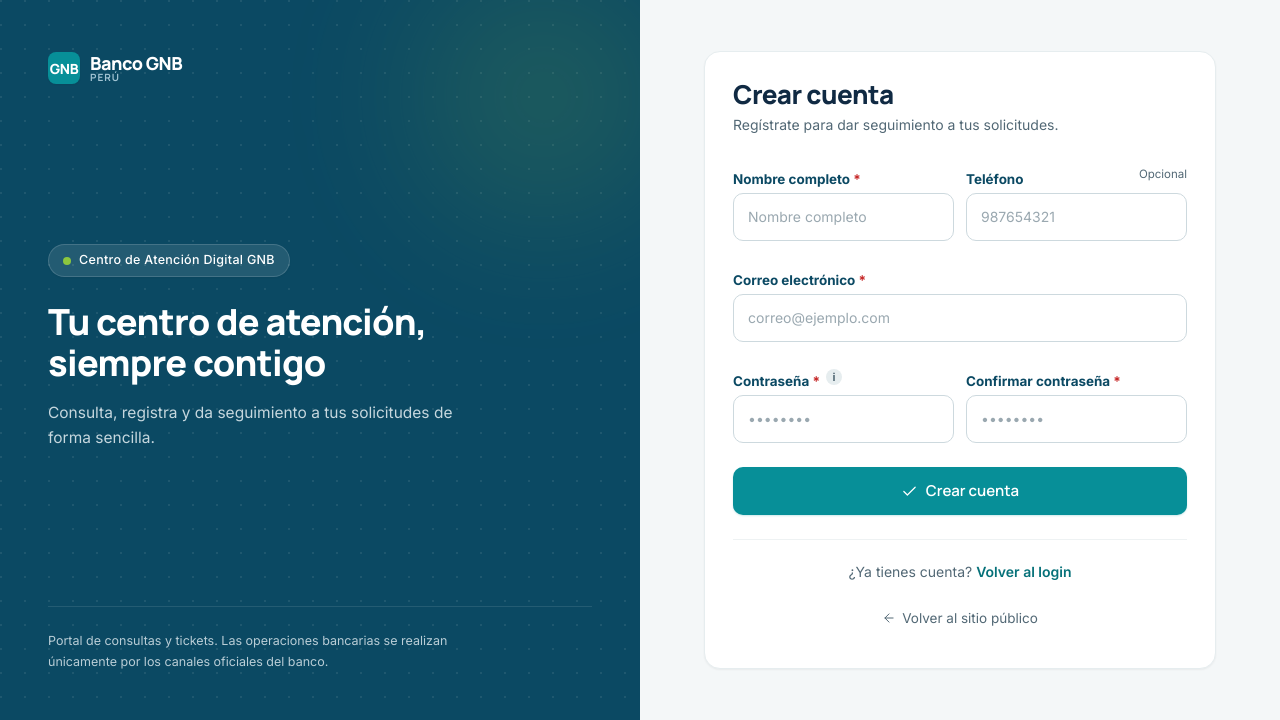
Test case: formularios de autenticación › registra un cliente y valida confirmación y contraseña
Type "Cliente Prueba" into the field labelled "Nombre completo *". click: point(844, 217)
box: [733,193,954,241]
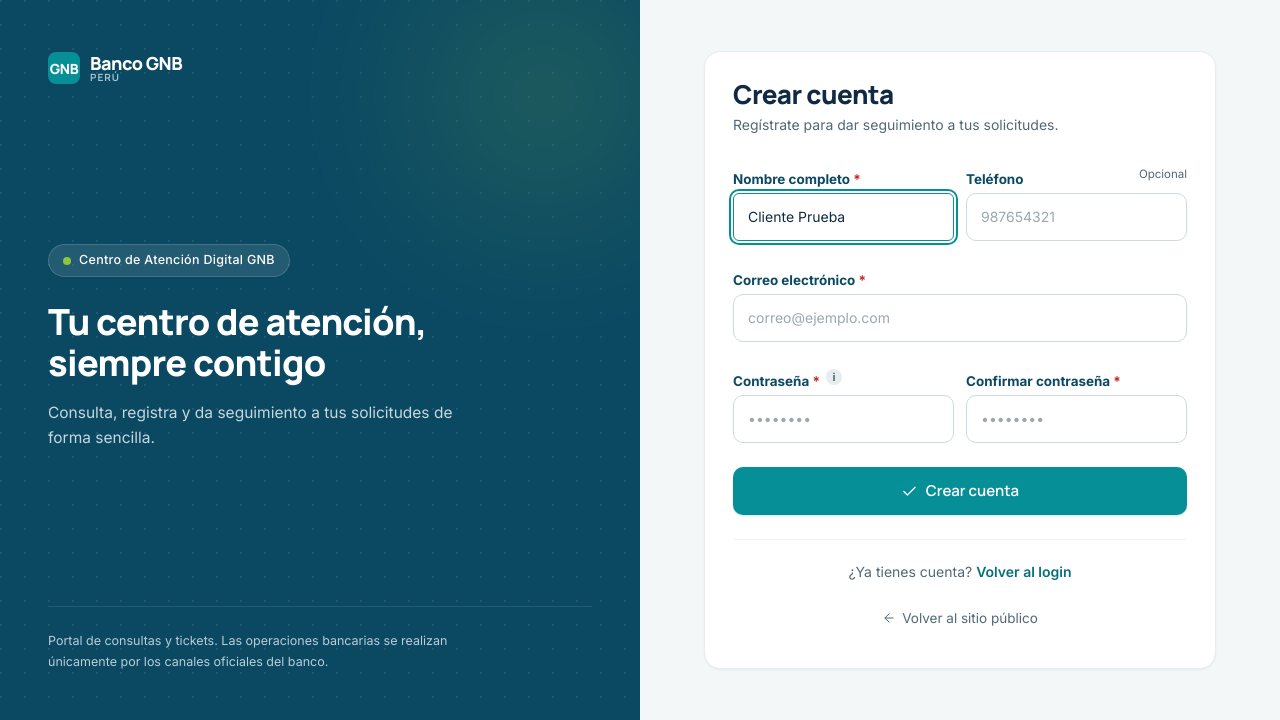
Type "cliente@example.com" into the field labelled "Correo electrónico *". click: point(960, 318)
box: [733,294,1187,342]
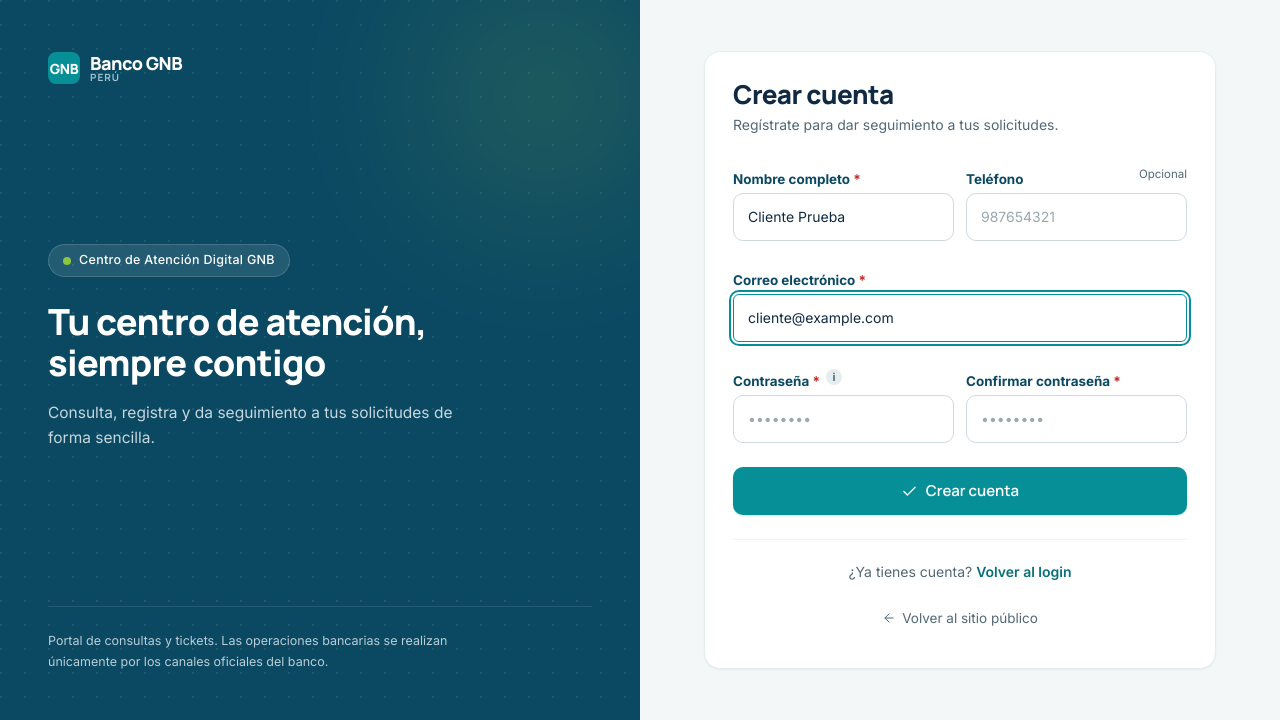
Type "Password123" into the password field labelled "Contraseña *". click: point(844, 419)
box: [733,395,954,443]
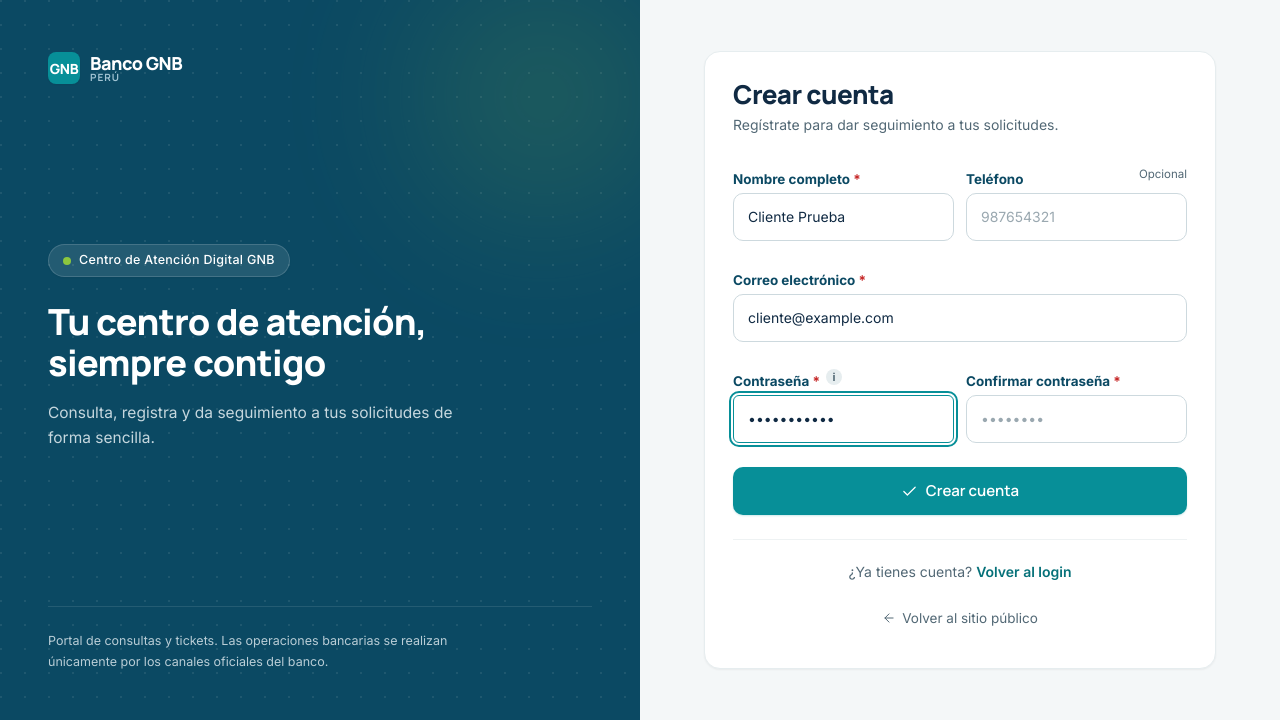
Type "Different123" into the password field labelled "Confirmar contraseña *". click: point(1076, 419)
box: [966,395,1187,443]
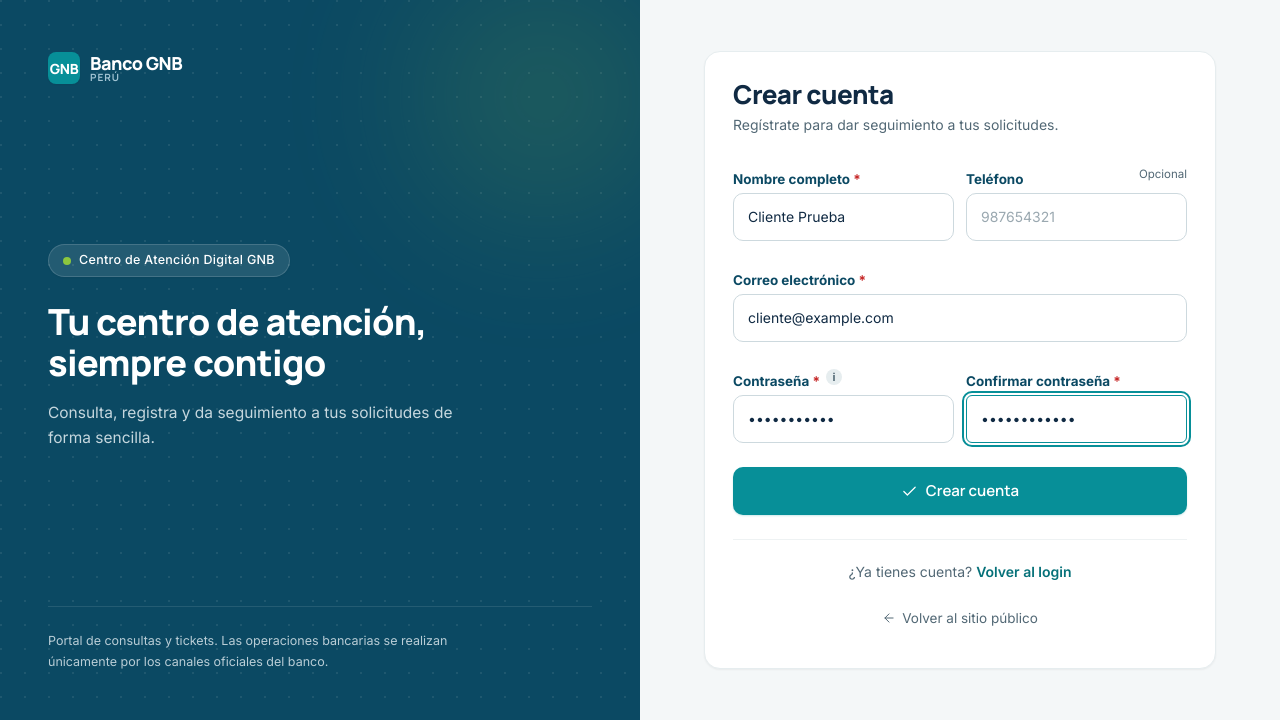
Click the button "Crear cuenta". click: point(960, 492)
box: [733,468,1187,516]
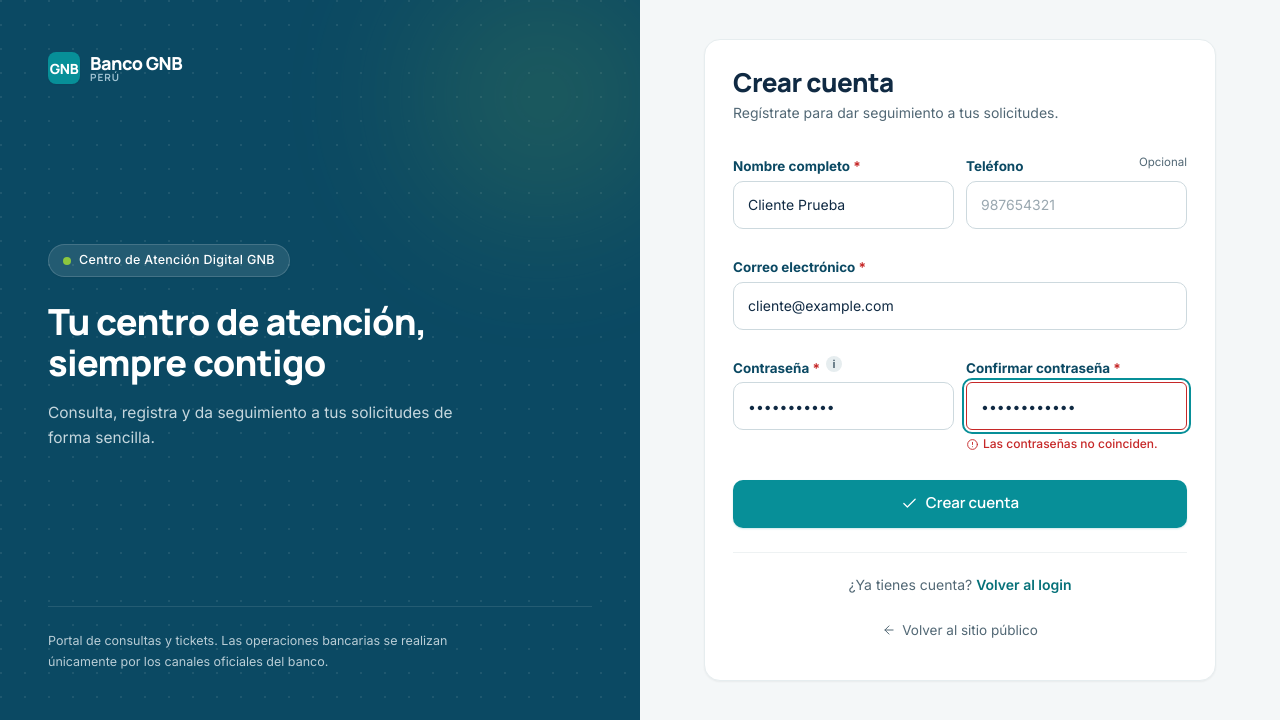
Result: the text "Las contraseñas no coinciden." is shown at [966,434,1187,455]
